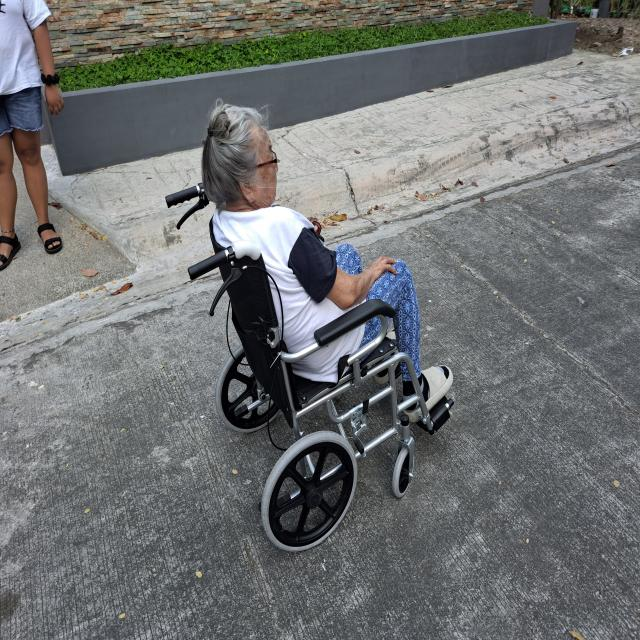wheelchairs: (166, 189, 462, 560)
